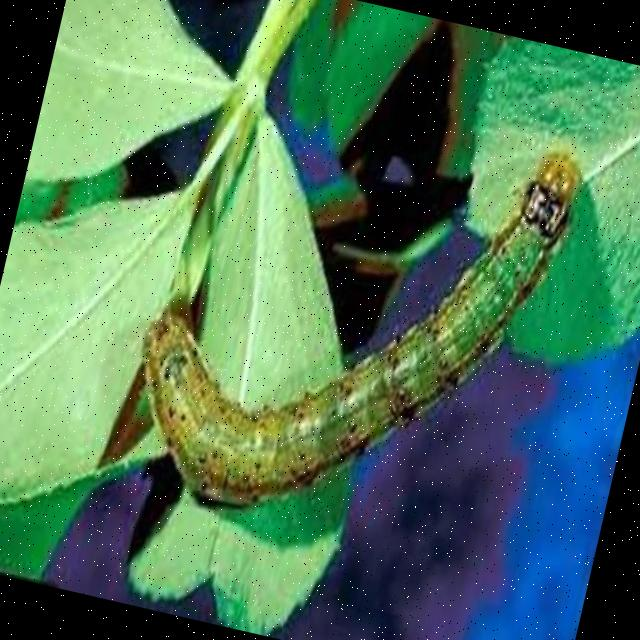worm: (110, 72, 589, 576)
